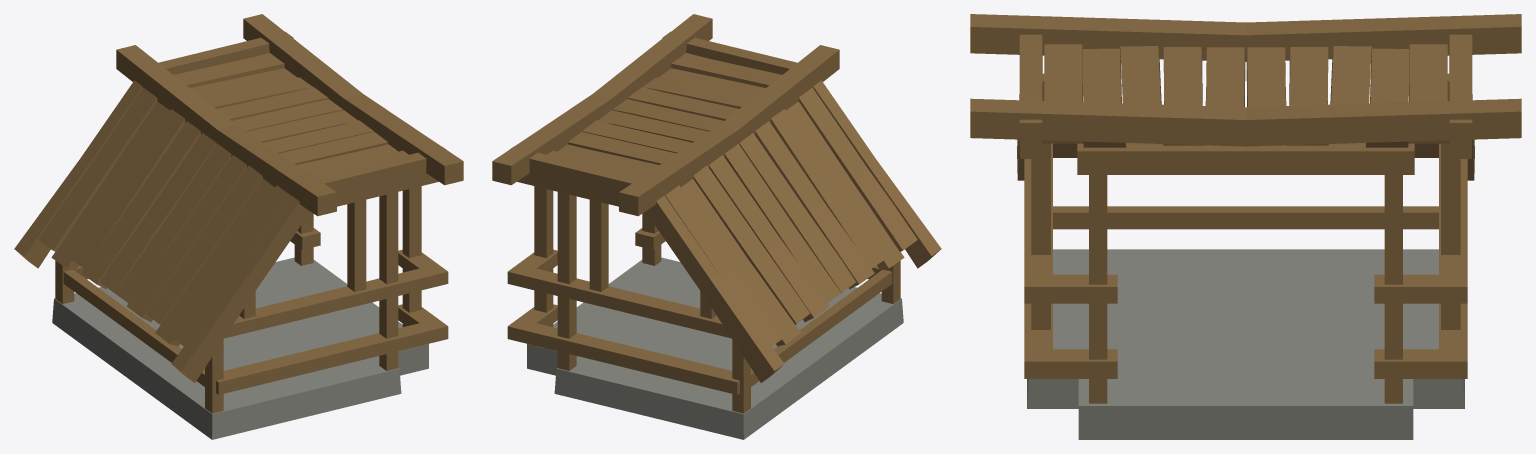
The model's file is quaternius-ultimate-fantasy-rts-houses-firstage-2-level-1.glb.
3 views of the same model, side by side, from view 1: azimuth 30°, elevation 25°; view 2: azimuth 150°, elevation 25°; view 3: azimuth 270°, elevation 25° (orthographic). The views are drawn at different scales.
Visible parts, largest first — view 1: Houses_FirstAge_2_Level1; view 2: Houses_FirstAge_2_Level1; view 3: Houses_FirstAge_2_Level1.
Part boxes in pixels (x1=…): Houses_FirstAge_2_Level1: x1=14, y1=14, x2=463, y2=439; Houses_FirstAge_2_Level1: x1=492, y1=14, x2=941, y2=439; Houses_FirstAge_2_Level1: x1=970, y1=14, x2=1521, y2=439.
Bounding box in the file's own units: 0.9108 × 0.7685 × 1.17.
